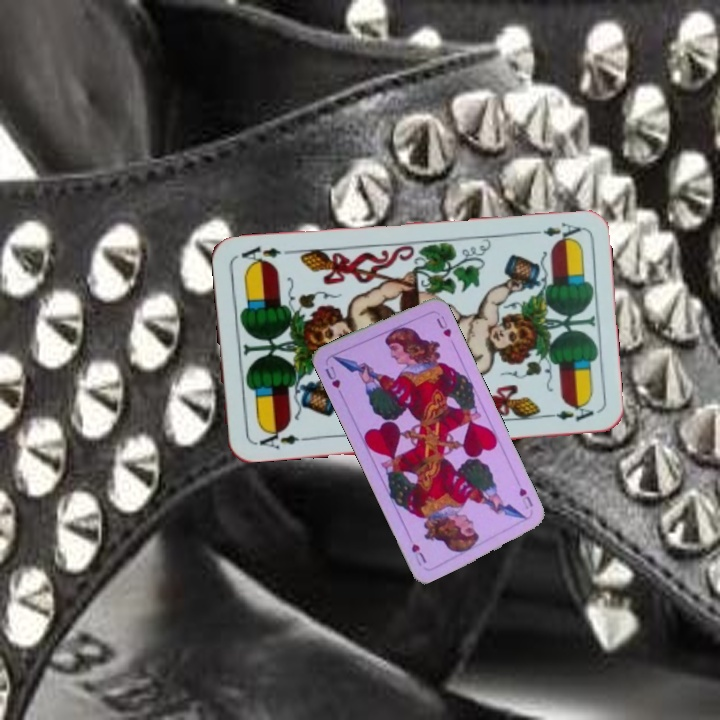EA: (250, 424, 309, 451), (539, 218, 584, 245)
HU: (321, 362, 343, 391), (515, 483, 536, 510)
